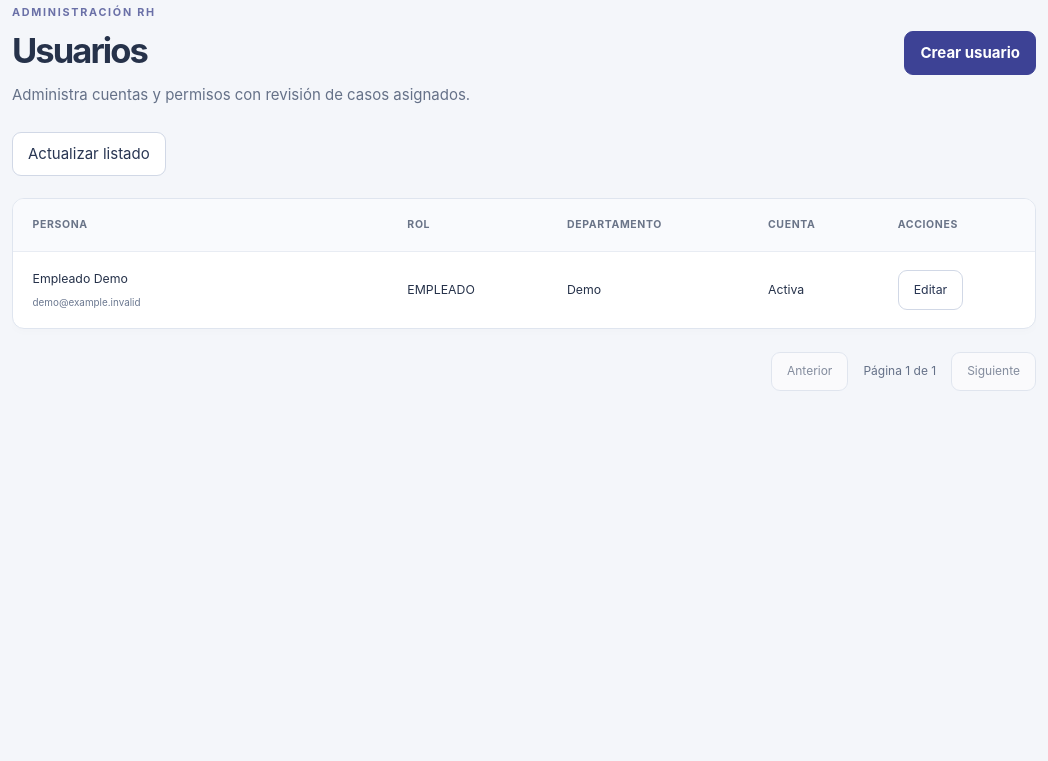
Test: conflicto no aplica cambios ficticios ni altera listado
The width and height of the screenshot is (1048, 761).
Click the button with aria-label "Editar Empleado Demo".
click(930, 290)  # box [898,270,963,310]
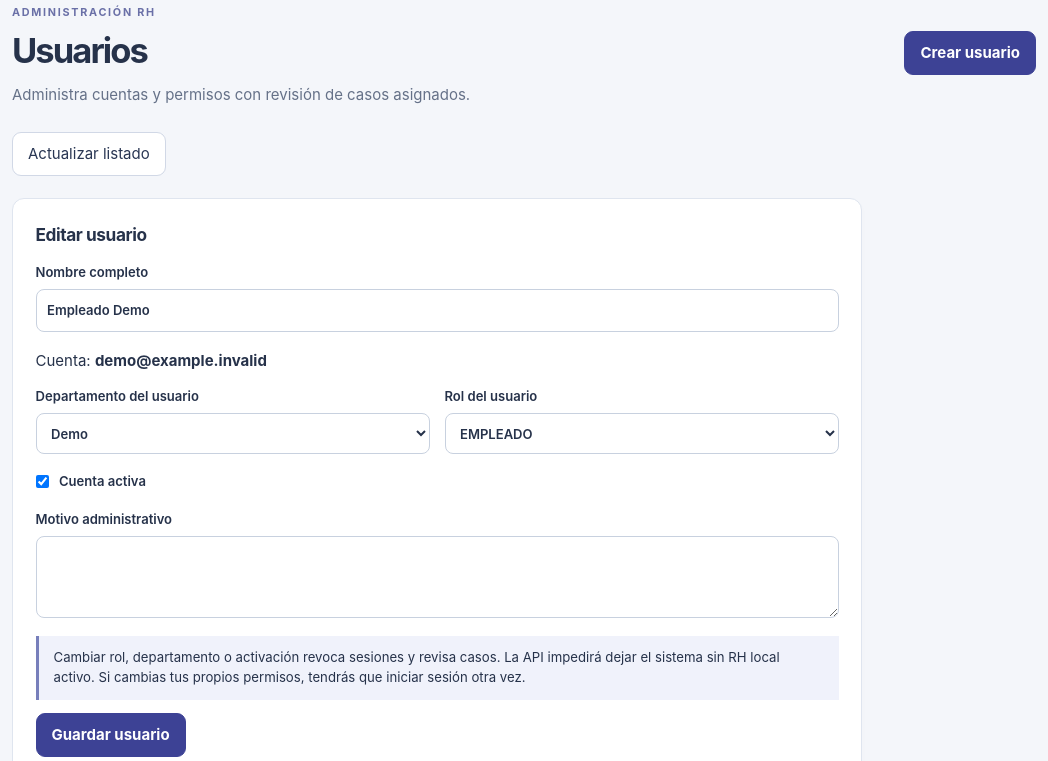
Type "Prueba" into the text box labelled "Motivo administrativo".
click(437, 577); type("Prueba")  # box [36,536,838,618]
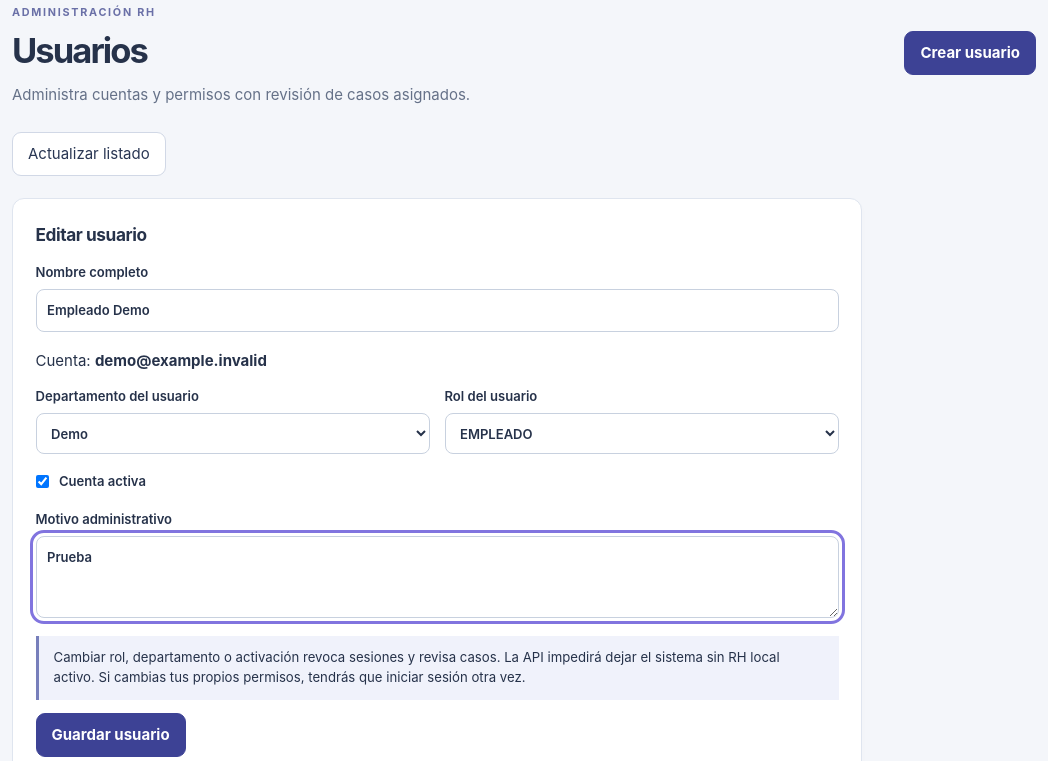
Click the button "Guardar usuario".
click(111, 735)  # box [36,713,186,757]
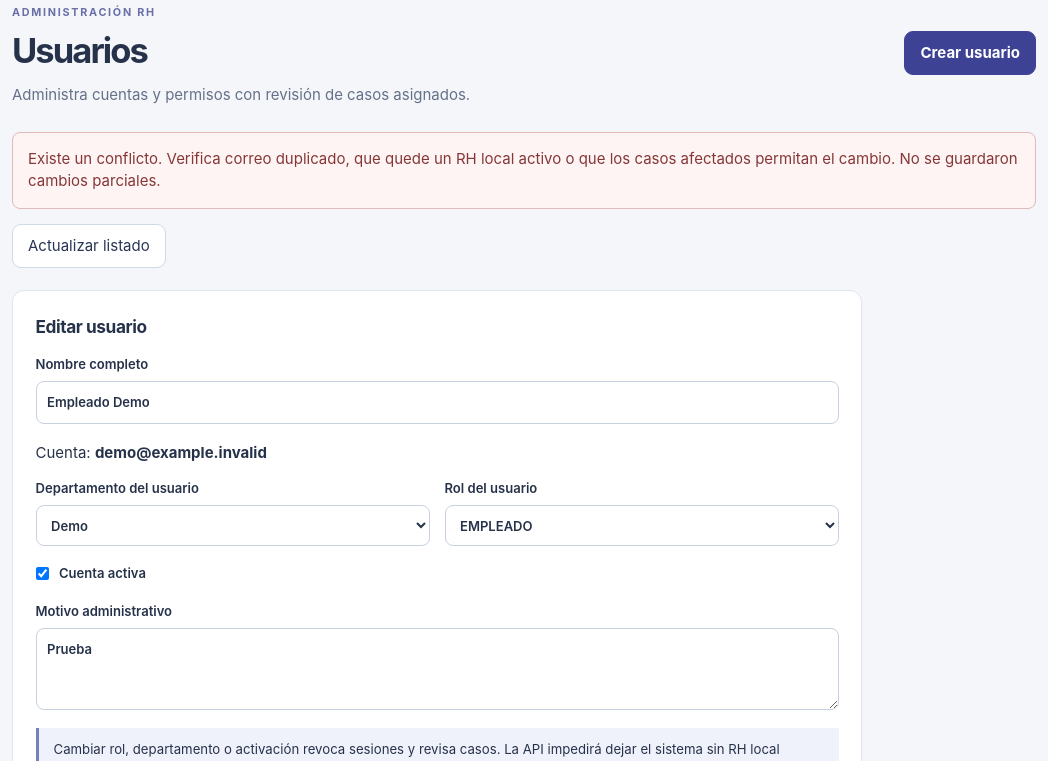
Now the checkbox labelled "Cuenta activa" is checked, box [36,567,48,580]
Now the text "Existe un conflicto" is shown, box [28,149,1018,190]
